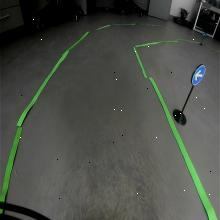left: (191, 65, 207, 85)
